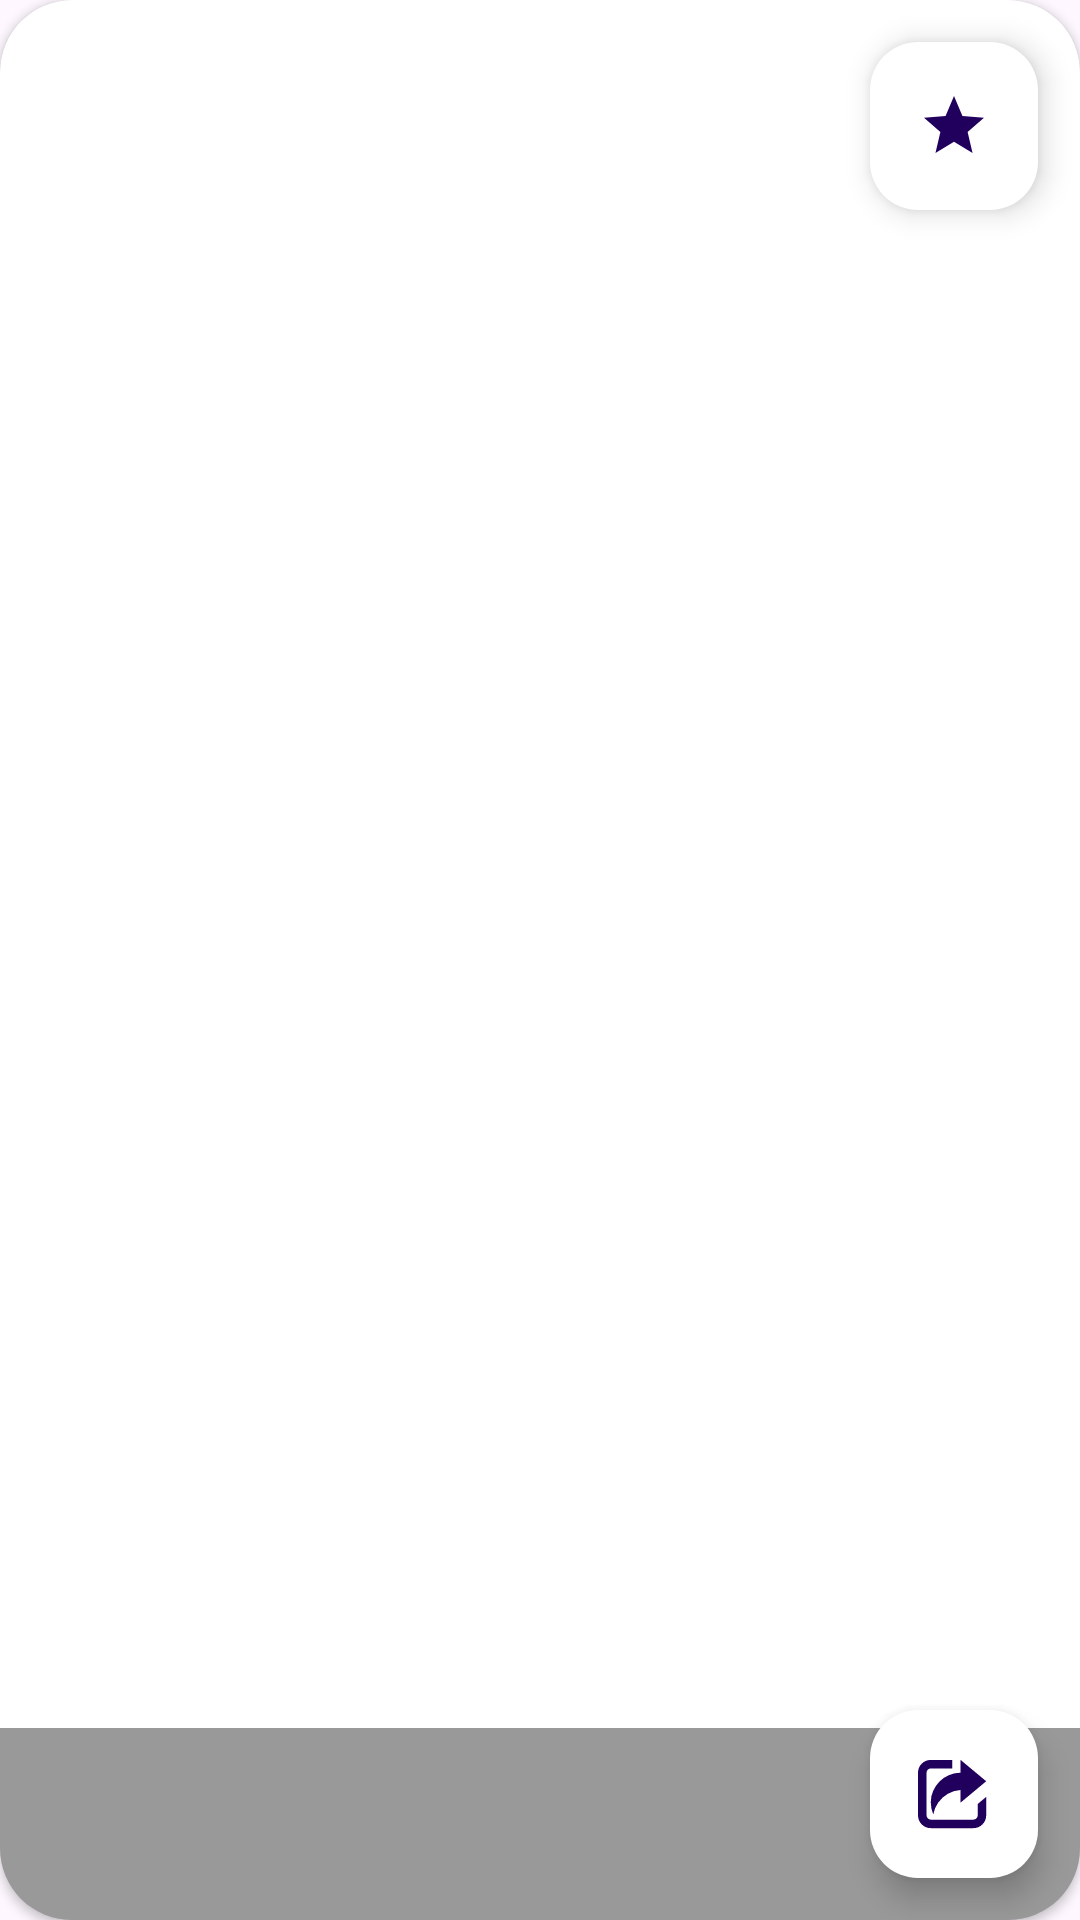

Screen size 1080px x 1920px. Icon name, then its center in pixels as (x=x, y=y):
share sq: (x=954, y=1794)
star: (x=973, y=127)
